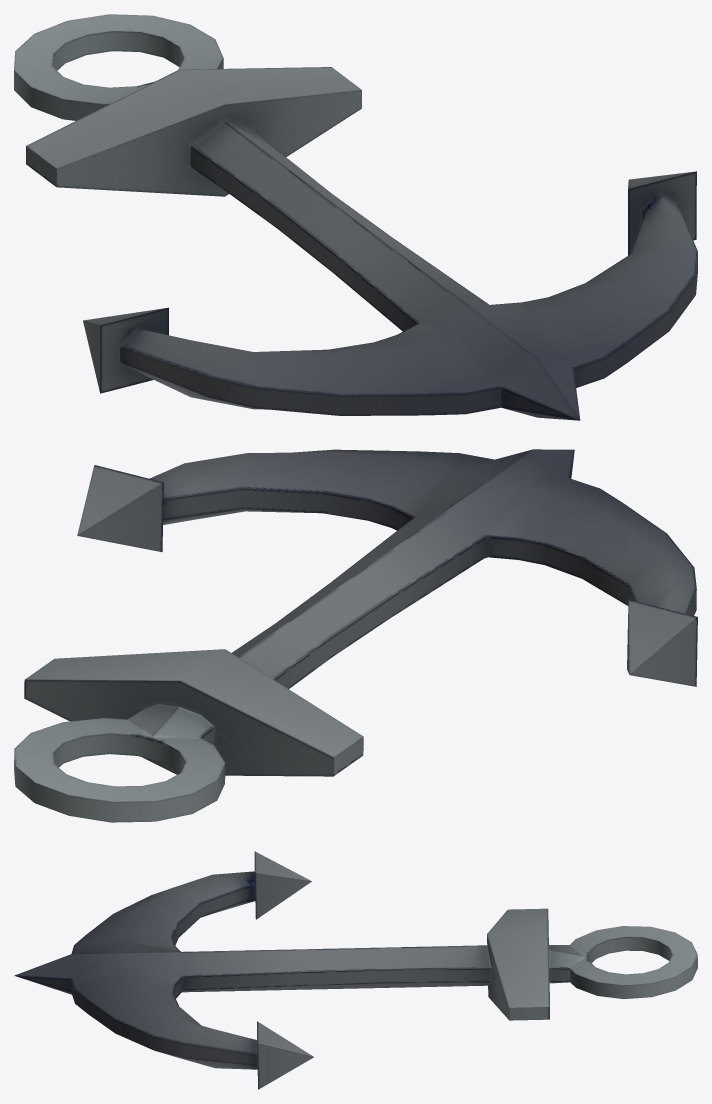
Rendered from anchor.fbx.
3 renders of one model, top to bottom at view 1: azimuth 30°, elevation 25°; view 2: azimuth 150°, elevation 25°; view 3: azimuth 270°, elevation 25°, orthographic. The views are drawn at different scales.
Parts seen in each view (by area): view 1: anchor; view 2: anchor; view 3: anchor.
Boxes of the visible parts, left/top/right/bottom form: anchor: left=14, top=14, right=697, bottom=420; anchor: left=14, top=449, right=697, bottom=822; anchor: left=14, top=851, right=697, bottom=1089.
Bounding box in the file's own units: 142 × 21.49 × 209.
1 material, 1 textured.
